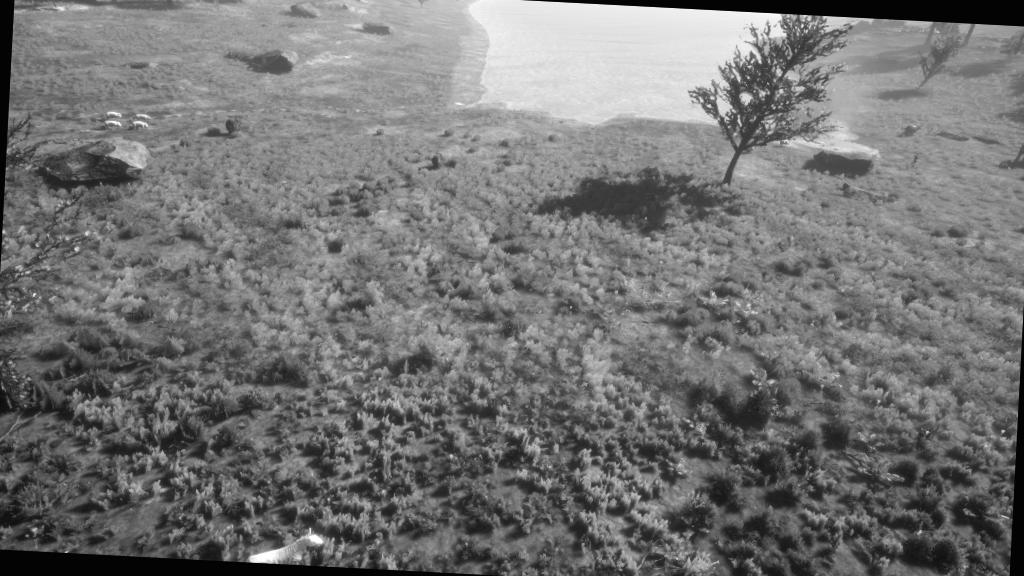Fire: (789, 108, 827, 142)
elephant: (904, 121, 920, 137)
human: (908, 152, 921, 166)
pig: (131, 121, 149, 131), (104, 120, 122, 130), (134, 113, 152, 122), (106, 110, 122, 120), (778, 138, 791, 148)
zebra: (240, 525, 330, 566)
